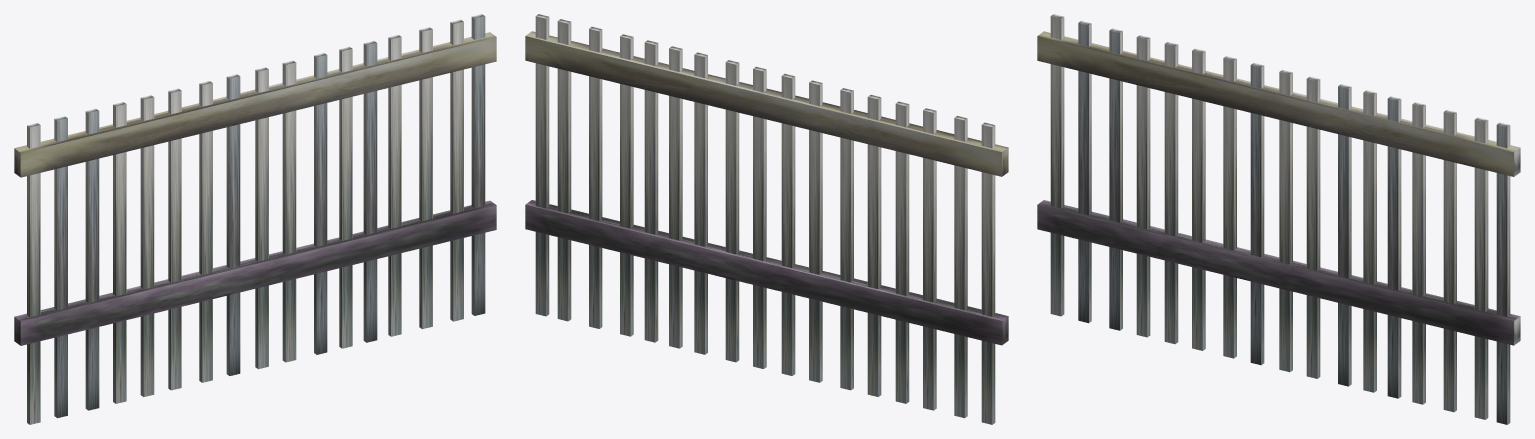
The model's file is fence_10x5.DAE.
3 views of the same model, side by side, from view 1: azimuth 30°, elevation 25°; view 2: azimuth 150°, elevation 25°; view 3: azimuth 330°, elevation 25° (orthographic).
Visible parts, largest first — view 1: Object03; view 2: Object03; view 3: Object03.
Boxes of the visible parts, box(x1,y1,x2,y2) form: Object03: box(14, 14, 496, 424); Object03: box(525, 14, 1008, 424); Object03: box(1037, 14, 1520, 424).
Bounding box in the file's own units: 11.16 × 6.66 × 0.267.
